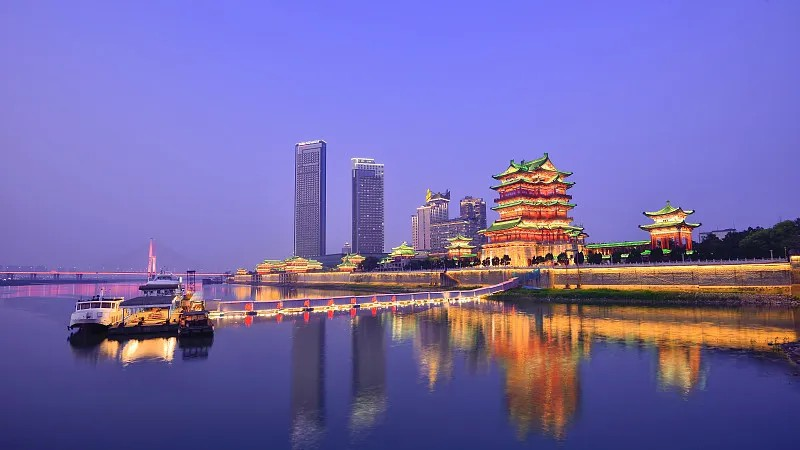Teng: (479, 152, 591, 249)
